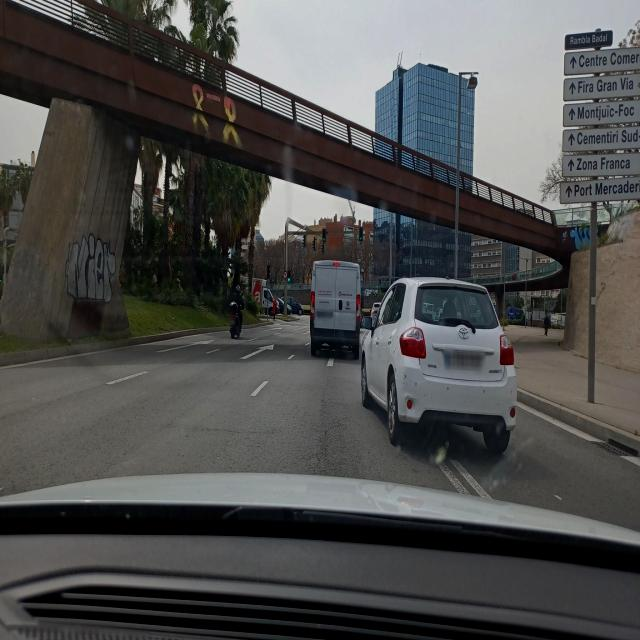bike: (229, 299, 244, 339)
car: (360, 274, 518, 454), (370, 300, 382, 329), (285, 298, 304, 315)
